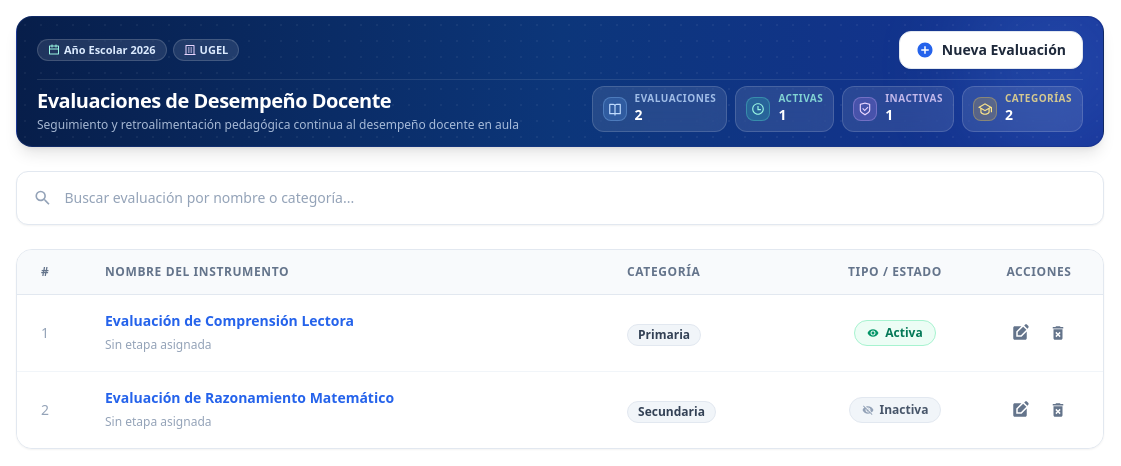
Test: EvaluacionesListContainer › filtra las evaluaciones dinámicamente según el texto de búsqueda por nombre o categoría
In the field with placeholder "Buscar evaluación por nombre o categoría...": (576, 198) [64,188,1087,208], type "Secundaria"
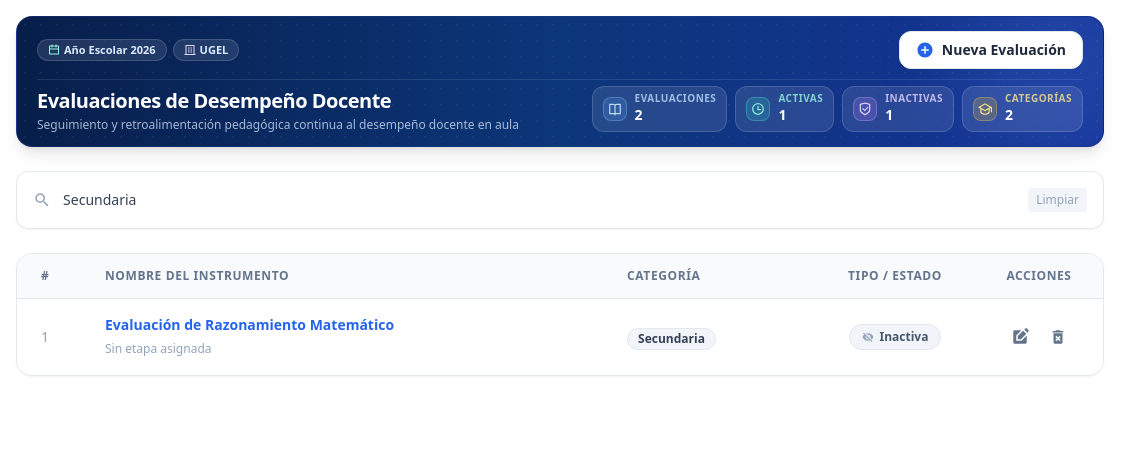
Check: the link "Evaluación de Razonamiento Matemático" is shown, box [105,315,394,334]
Check: the link "Evaluación de Comprensión Lectora" is gone
